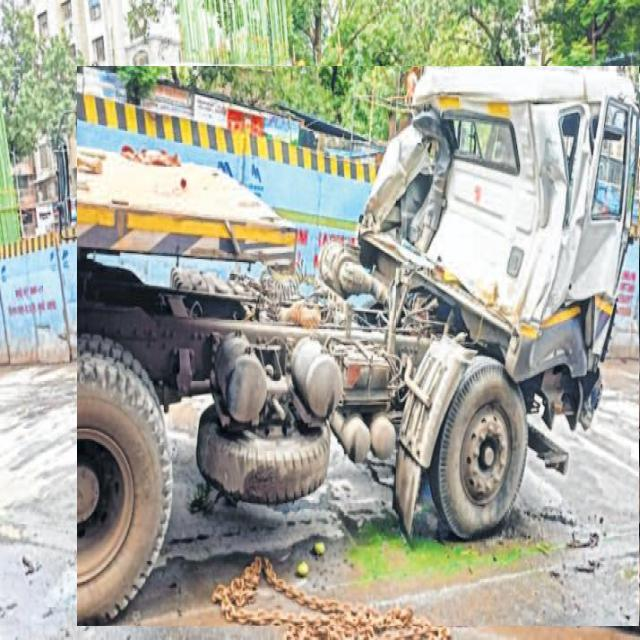accident: (78, 67, 639, 626)
